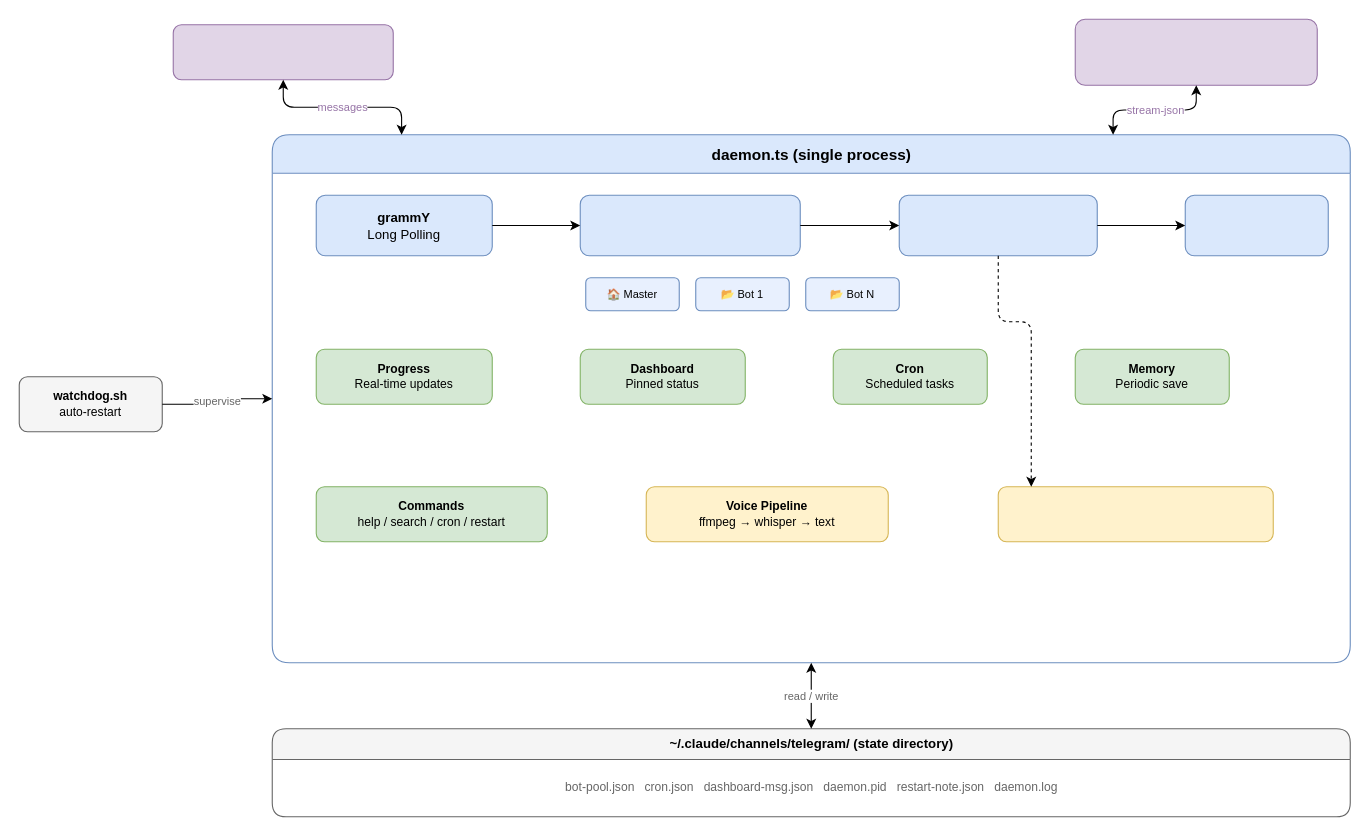
Some shapes in this 1370 by 836 pixel diagram are drawn without their labels. Here are the shapes that lost their labels. From the top down, the centre of each, then its label:
the point at 282,52: Telegram Bot API
the point at 1195,51: Claude CLI claude -p --stream-json
the point at 689,225: Bot Pool Master + Project Bots
the point at 997,225: Claude Invoker runClaude()
the point at 1256,225: Permission approve / allowAll
the point at 1135,514: Stream Parser result / rate_limit / tool_use
